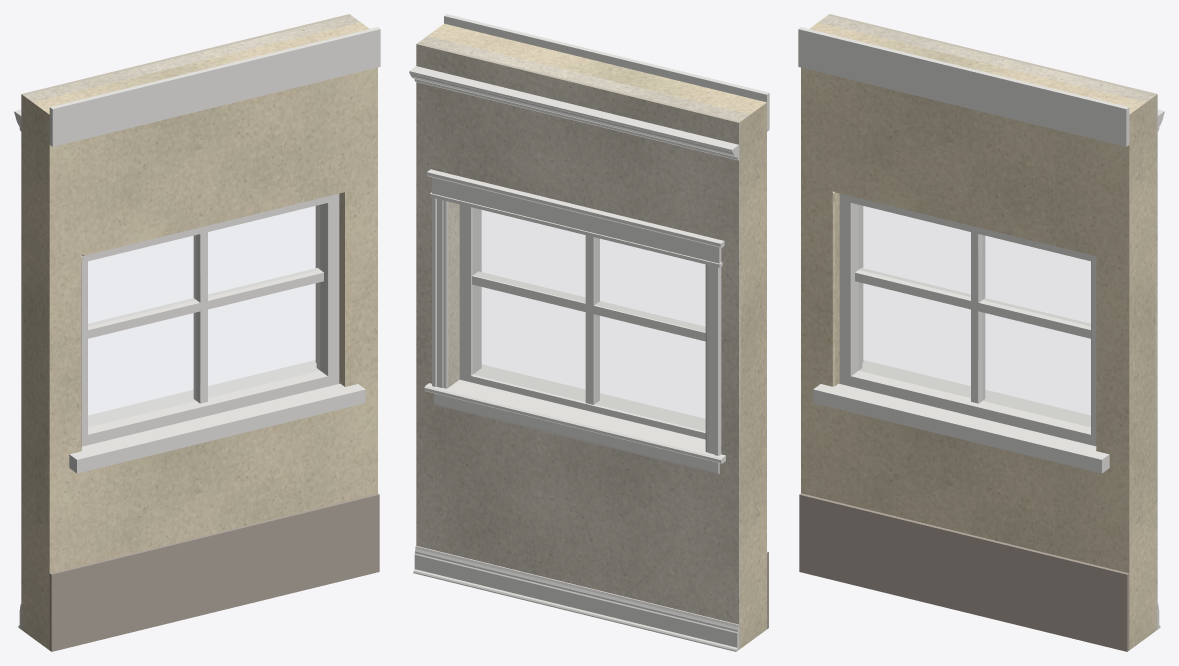
Rendered from wall_back_window.glb.
3 renders of one model, left to right at view 1: azimuth 30°, elevation 25°; view 2: azimuth 150°, elevation 25°; view 3: azimuth 330°, elevation 25°, orthographic.
Parts seen in each view (by area): view 1: wall_back_window_stucco, folha_glass, wall_back_window_plinth, wall_back_window_trim, wall_back_window_frame, wall_back_window_plaster, molduras; view 2: wall_back_window_plaster, molduras, folha_glass, wall_back_window_stucco, folha_frame, wall_back_window_frame, wall_back_window_trim; view 3: wall_back_window_stucco, folha_glass, wall_back_window_plinth, wall_back_window_trim, wall_back_window_frame, wall_back_window_plaster, molduras.
Part boxes in pixels (x1=…): wall_back_window_stucco: x1=23, y1=22, x2=377, y2=650; folha_glass: x1=88, y1=205, x2=319, y2=426; wall_back_window_plinth: x1=49, y1=493, x2=379, y2=651; wall_back_window_trim: x1=49, y1=27, x2=380, y2=473; wall_back_window_frame: x1=81, y1=193, x2=339, y2=446; wall_back_window_plaster: x1=21, y1=14, x2=360, y2=630; molduras: x1=14, y1=109, x2=316, y2=629; wall_back_window_plaster: x1=416, y1=36, x2=749, y2=649; molduras: x1=409, y1=66, x2=738, y2=651; folha_glass: x1=473, y1=208, x2=704, y2=430; wall_back_window_stucco: x1=428, y1=23, x2=766, y2=647; folha_frame: x1=459, y1=204, x2=705, y2=439; wall_back_window_frame: x1=471, y1=207, x2=705, y2=432; wall_back_window_trim: x1=444, y1=14, x2=769, y2=422; wall_back_window_stucco: x1=801, y1=22, x2=1155, y2=650; folha_glass: x1=859, y1=205, x2=1090, y2=426; wall_back_window_plinth: x1=799, y1=493, x2=1129, y2=651; wall_back_window_trim: x1=798, y1=27, x2=1129, y2=473; wall_back_window_frame: x1=839, y1=193, x2=1096, y2=446; wall_back_window_plaster: x1=818, y1=14, x2=1157, y2=630; molduras: x1=862, y1=109, x2=1164, y2=629.
Bounding box in the file's own units: 2 × 3.16 × 0.455.
Materials: 6 (2 with a texture image).
